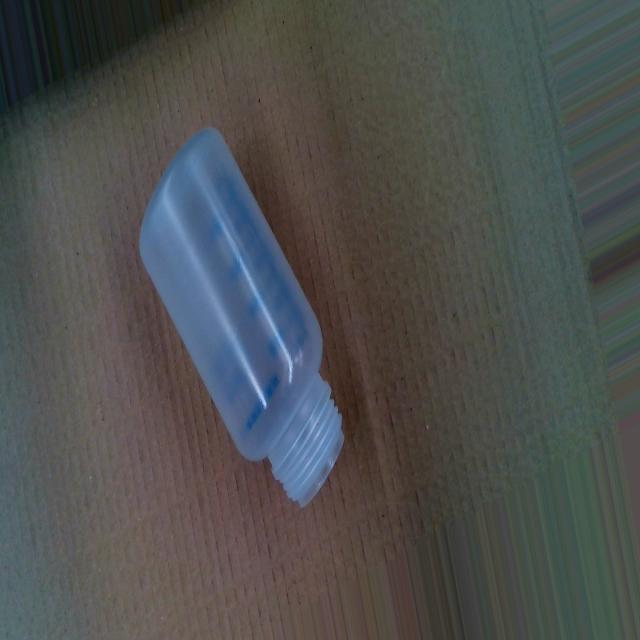bottle: (134, 117, 347, 520)
